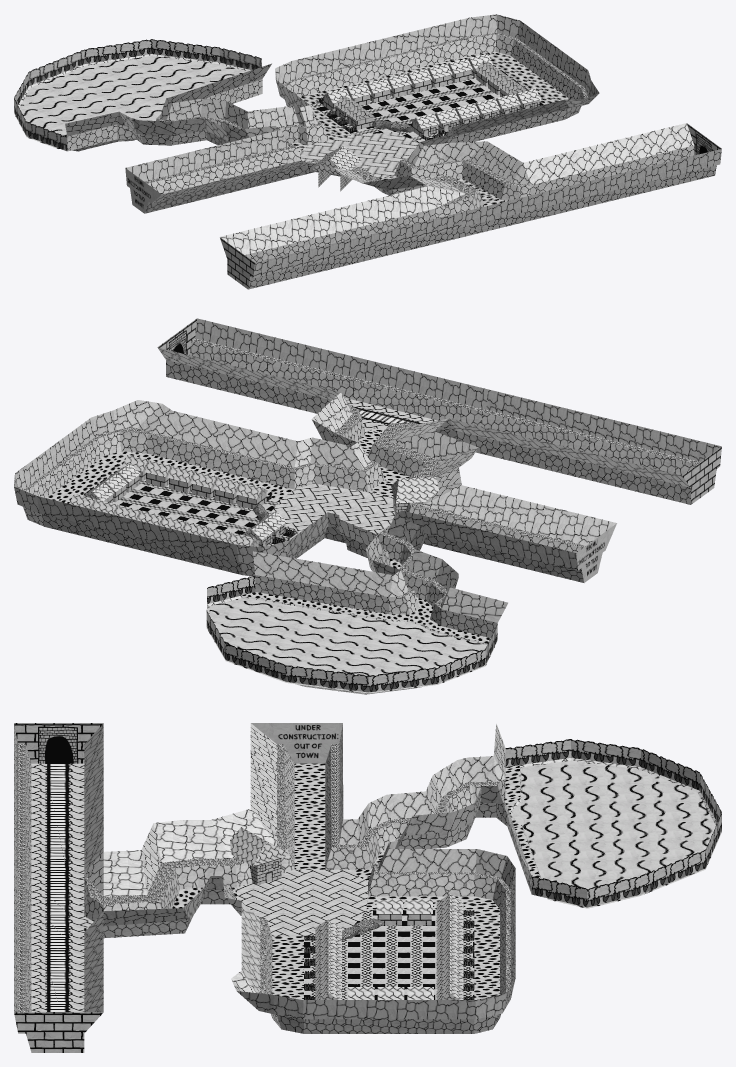
File: town.fbx
3 renders of one model, top to bottom at view 1: azimuth 30°, elevation 25°; view 2: azimuth 150°, elevation 25°; view 3: azimuth 270°, elevation 25°, orthographic. The views are drawn at different scales.
Visible parts, largest first — view 1: Plane, water, houses.001, houses, House, houses.002, houses.003; view 2: Plane, water, houses, houses.001, houses.002, House, houses.003; view 3: Plane, water, rails, houses.001, houses, House, houses.003, houses.002.
Boxes of the visible parts, x1,y1,x2,y2 form: Plane: [14, 14, 721, 289]; water: [14, 56, 247, 149]; houses.001: [319, 53, 492, 111]; houses: [411, 88, 540, 140]; House: [311, 146, 361, 191]; houses.002: [475, 61, 528, 97]; houses.003: [327, 95, 374, 131]; Plane: [14, 318, 721, 694]; water: [206, 597, 494, 693]; houses: [122, 454, 272, 508]; houses.001: [69, 494, 259, 546]; houses.002: [83, 463, 140, 503]; House: [391, 477, 438, 514]; houses.003: [242, 511, 294, 547]; Plane: [14, 723, 721, 1052]; water: [512, 760, 721, 908]; rails: [45, 763, 70, 1012]; houses.001: [436, 894, 474, 999]; houses: [304, 919, 341, 999]; House: [230, 827, 290, 885]; houses.003: [376, 899, 432, 925]; houses.002: [348, 987, 433, 999].
Size of what is drawn, in the model's own units: 11489 by 1079 by 11652.
